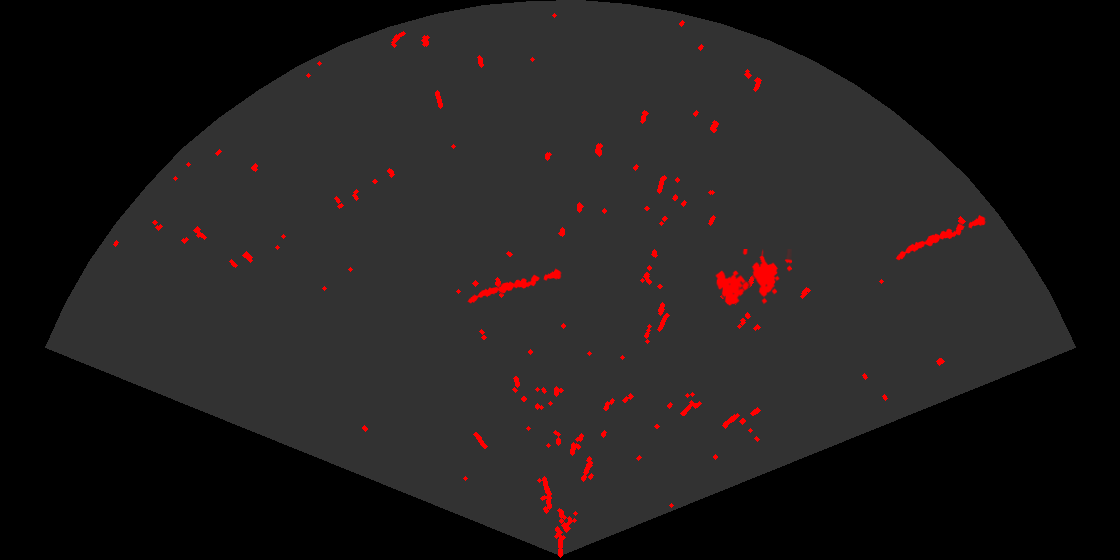cage: (714, 249, 792, 307)
chain: (894, 213, 988, 262), (466, 267, 564, 305)
